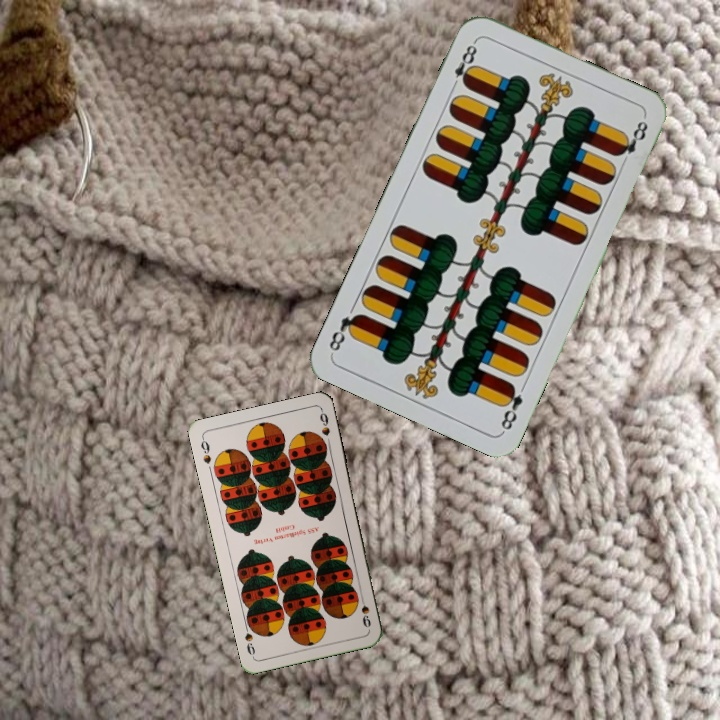E8: (447, 37, 480, 92), (496, 379, 526, 434)
S9: (356, 591, 373, 630), (197, 434, 214, 466)
